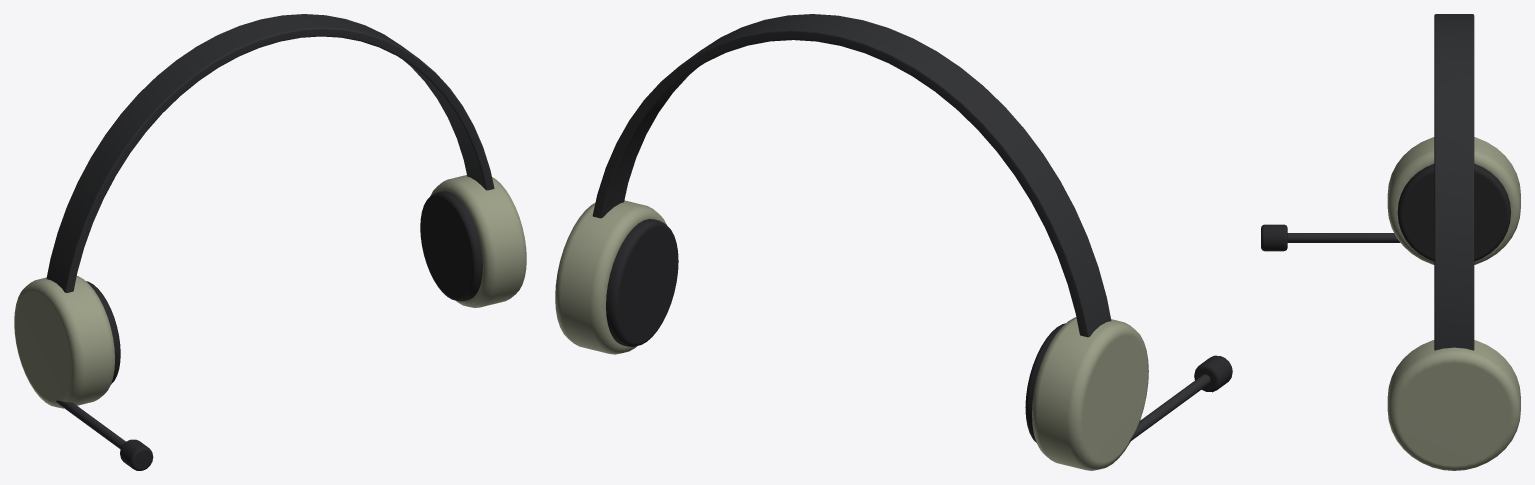
The model's file is headset_T.glb.
3 views of the same model, side by side, from view 1: azimuth 30°, elevation 25°; view 2: azimuth 150°, elevation 25°; view 3: azimuth 270°, elevation 25° (orthographic). The views are drawn at different scales.
Parts seen in each view (by area): view 1: headset@Head; view 2: headset@Head; view 3: headset@Head.
Boxes of the visible parts, x1,y1,x2,y2 form: headset@Head: [14, 14, 526, 470]; headset@Head: [555, 14, 1232, 470]; headset@Head: [1261, 14, 1520, 470].
Size of the model in its own units: 0.3231 by 0.217 by 0.156.
